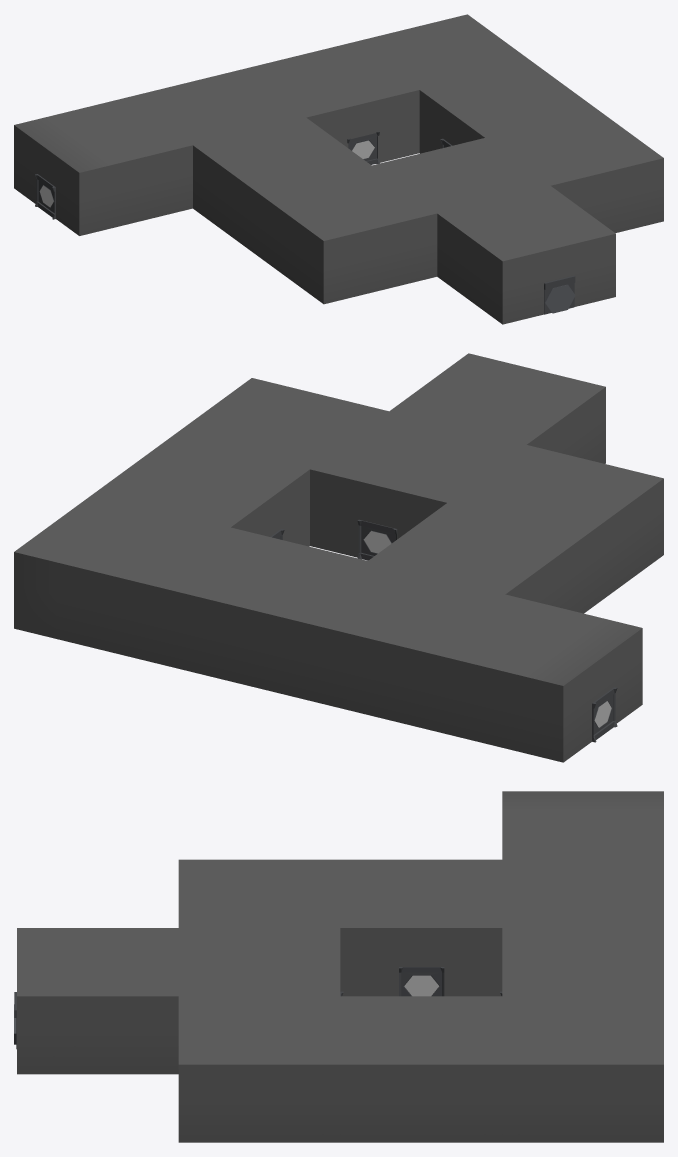
The model's file is demoRoom0.0.5.fbx.
The picture shows the model from 3 angles, top to bottom: view 1: azimuth 30°, elevation 25°; view 2: azimuth 150°, elevation 25°; view 3: azimuth 270°, elevation 25°; orthographic projection. The views are drawn at different scales.
Parts seen in each view (by area): view 1: Cube.001, Wall/Window.3, Wall/Window.5, Door.001; view 2: Cube.001, Wall/Window.2, Wall/Window.5; view 3: Cube.001, Wall/Window.4.
Part boxes in pixels (x1=…): Cube.001: x1=14, y1=14, x2=663, y2=324; Wall/Window.3: x1=347, y1=131, x2=379, y2=164; Wall/Window.5: x1=35, y1=174, x2=55, y2=219; Door.001: x1=544, y1=284, x2=575, y2=313; Cube.001: x1=14, y1=353, x2=663, y2=762; Wall/Window.2: x1=357, y1=519, x2=397, y2=560; Wall/Window.5: x1=592, y1=687, x2=617, y2=742; Cube.001: x1=17, y1=791, x2=663, y2=1142; Wall/Window.4: x1=399, y1=967, x2=444, y2=996.
Bounding box in the file's own units: 6036 × 6027 × 801.
Materials: 4 (1 with a texture image).
